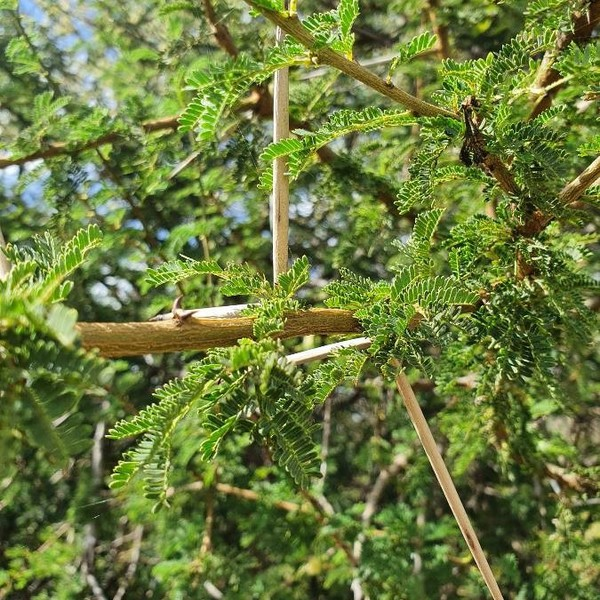obstacle: (369, 91, 584, 400), (122, 305, 330, 517)
